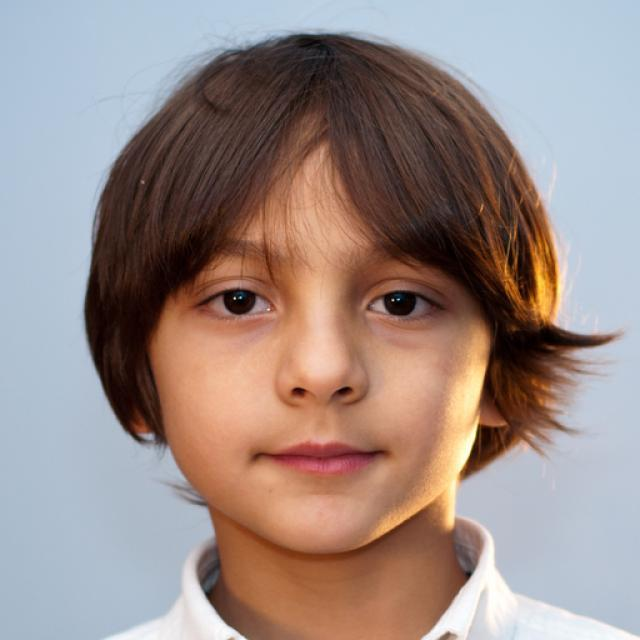neutral: (152, 132, 492, 553)
